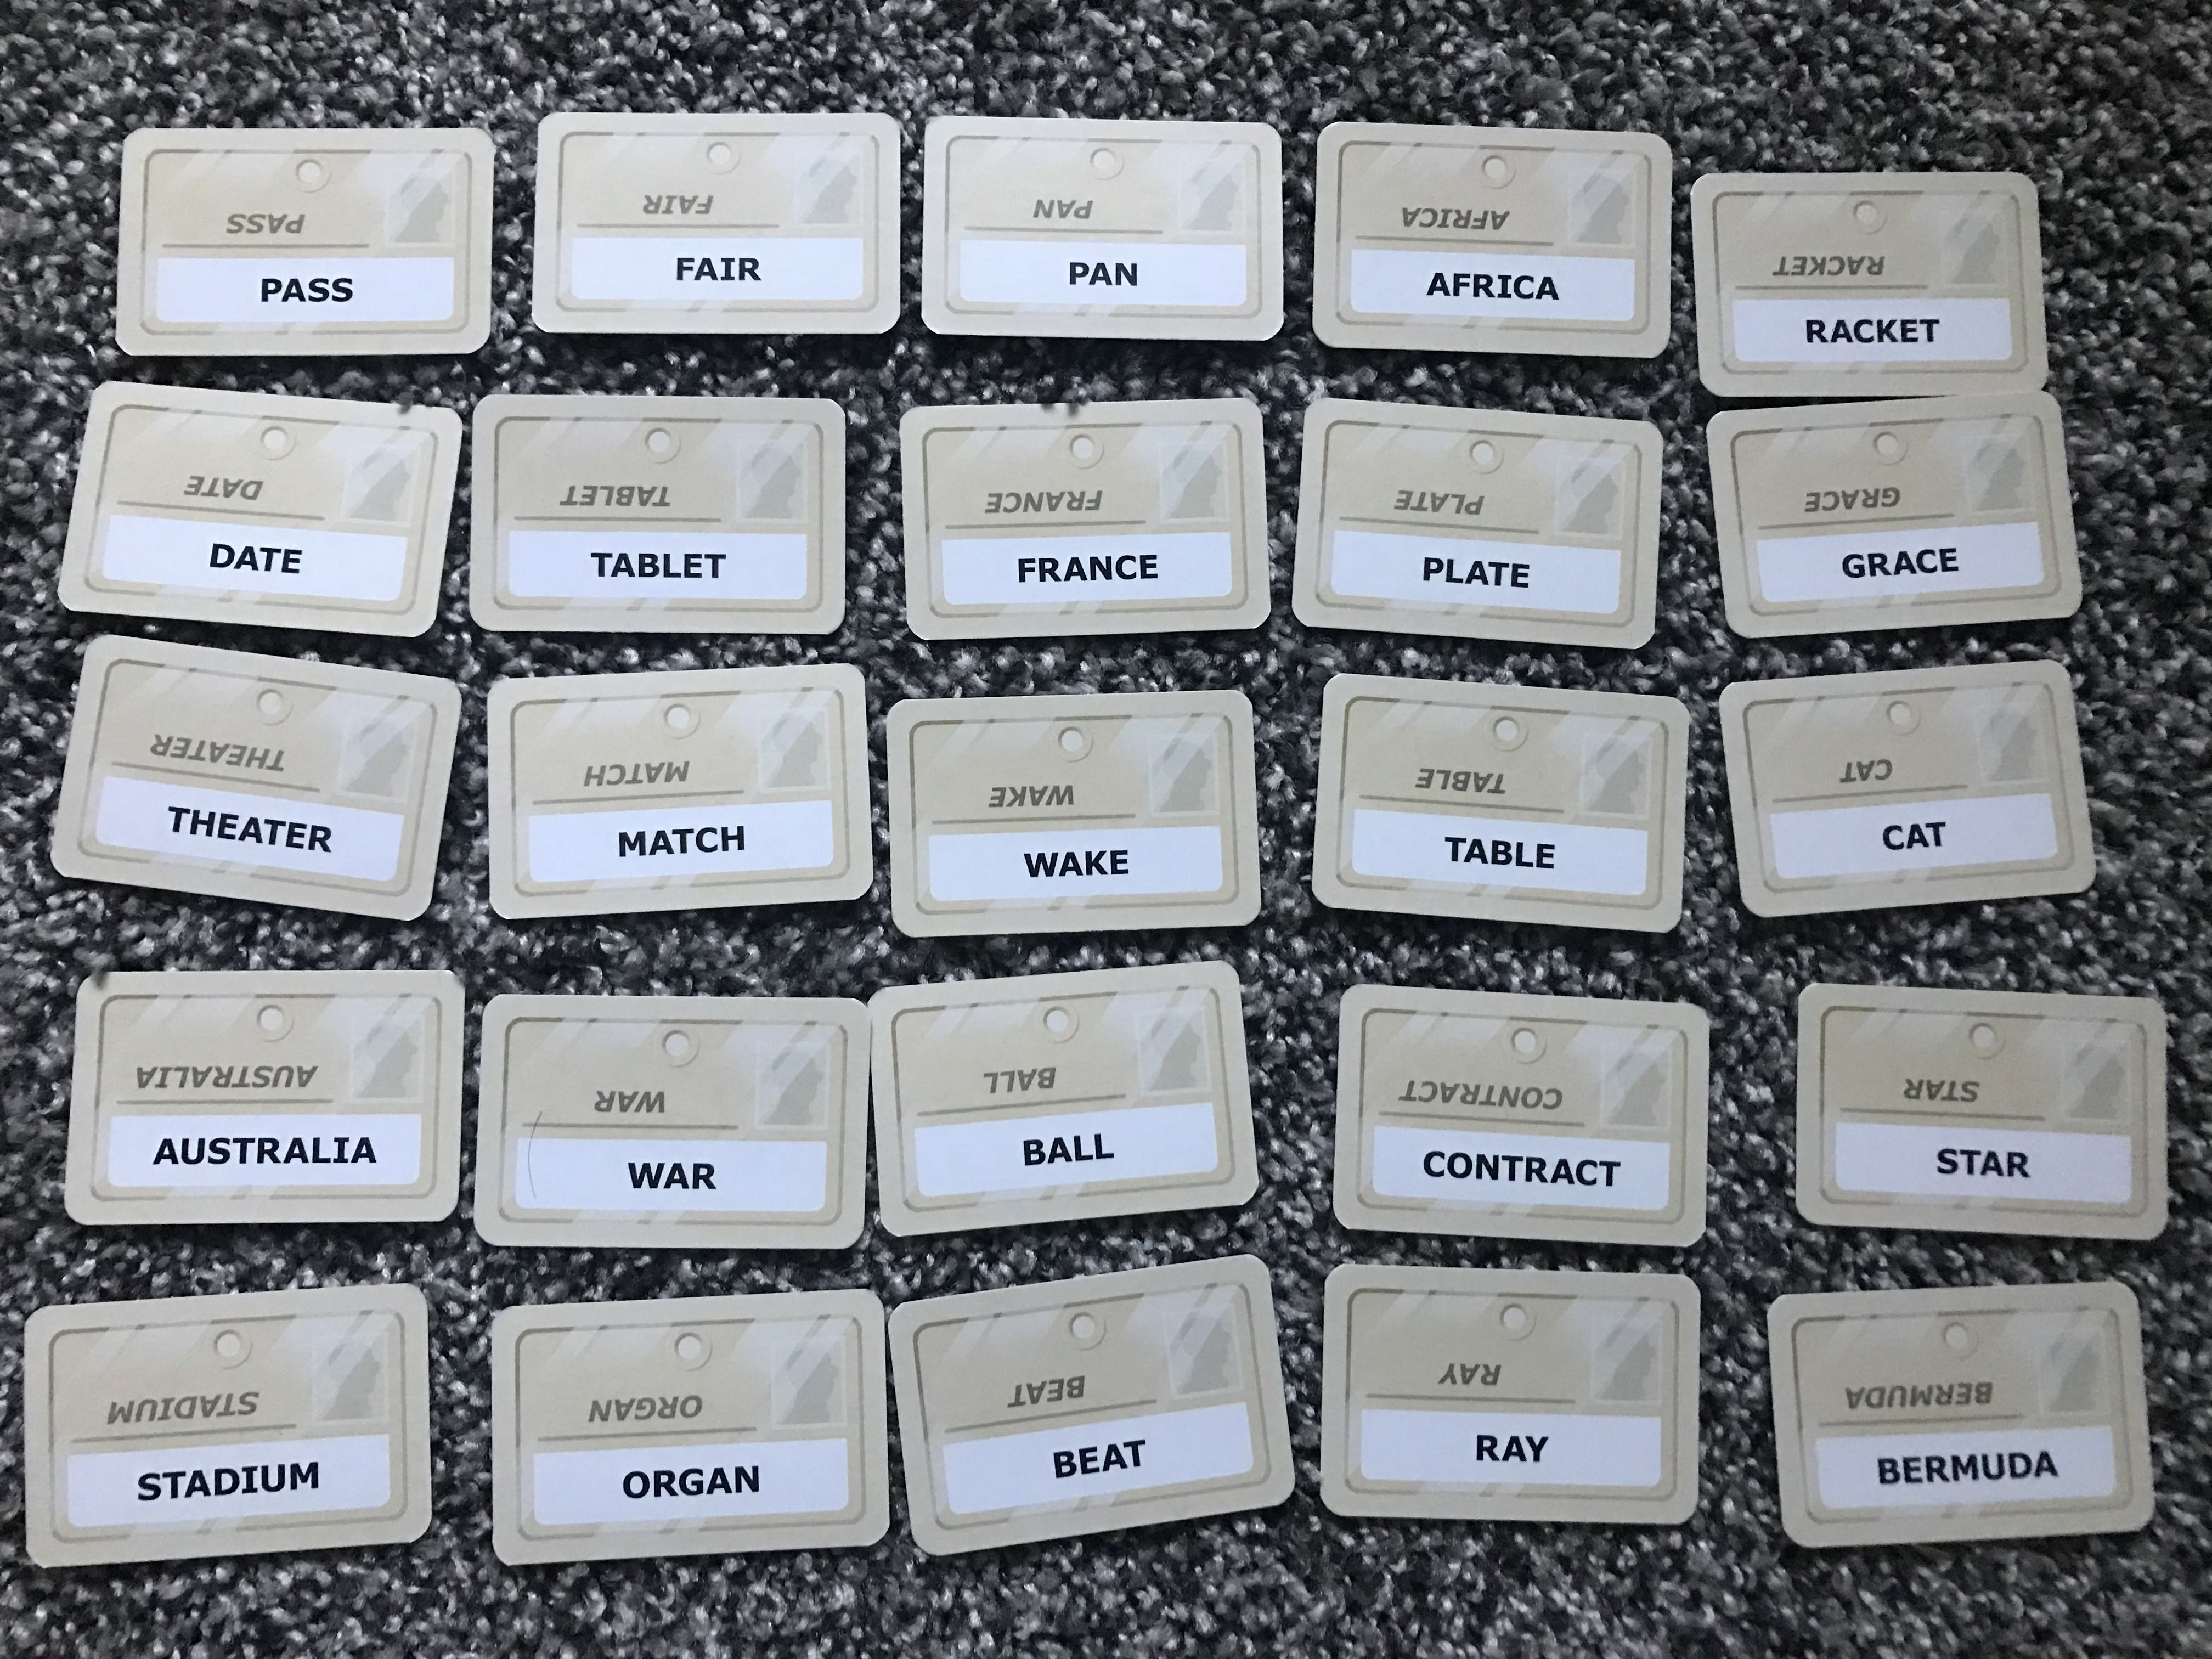A: (1500, 1424, 1533, 1476), (646, 821, 678, 870), (239, 807, 266, 861), (1043, 1131, 1075, 1175), (2031, 1439, 2062, 1483), (1890, 542, 1919, 586), (348, 1127, 378, 1171), (1099, 1436, 1129, 1480), (284, 1127, 310, 1176), (233, 540, 263, 582), (1547, 1152, 1576, 1194), (1977, 1143, 2003, 1190), (1423, 263, 1451, 307), (1061, 551, 1090, 591), (153, 1131, 179, 1176), (181, 1462, 209, 1504), (1465, 551, 1489, 598), (662, 1157, 688, 1201), (1059, 847, 1085, 889), (606, 547, 632, 587), (1904, 816, 1930, 856), (1087, 254, 1111, 296), (1827, 312, 1855, 349), (705, 1462, 730, 1504), (693, 251, 719, 289), (280, 274, 307, 310), (1465, 831, 1484, 873)
